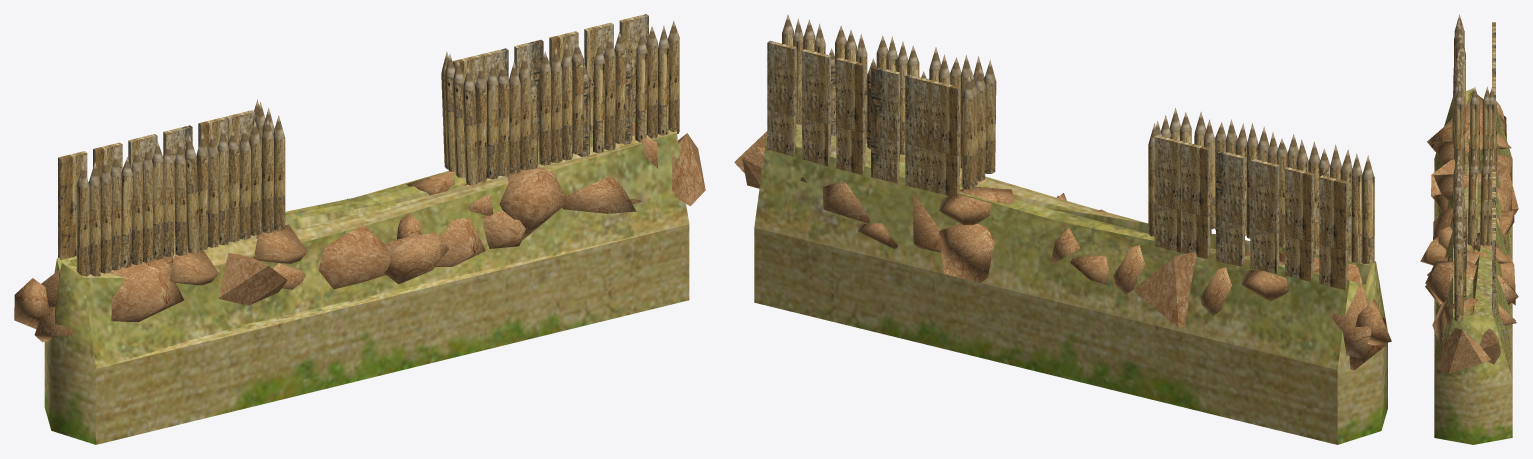
File: tupis_wall_gate.dae
3 renders of one model, left to right at view 1: azimuth 30°, elevation 25°; view 2: azimuth 150°, elevation 25°; view 3: azimuth 270°, elevation 25°, orthographic. The views are drawn at different scales.
Parts seen in each view (by area): view 1: tupi_gate; view 2: tupi_gate; view 3: tupi_gate.
Boxes of the visible parts, x1=… form: tupi_gate: x1=14, y1=14, x2=705, y2=444; tupi_gate: x1=734, y1=14, x2=1391, y2=444; tupi_gate: x1=1420, y1=14, x2=1518, y2=444.
Size of the model in its own units: 36.13 by 5.98 by 13.9.
